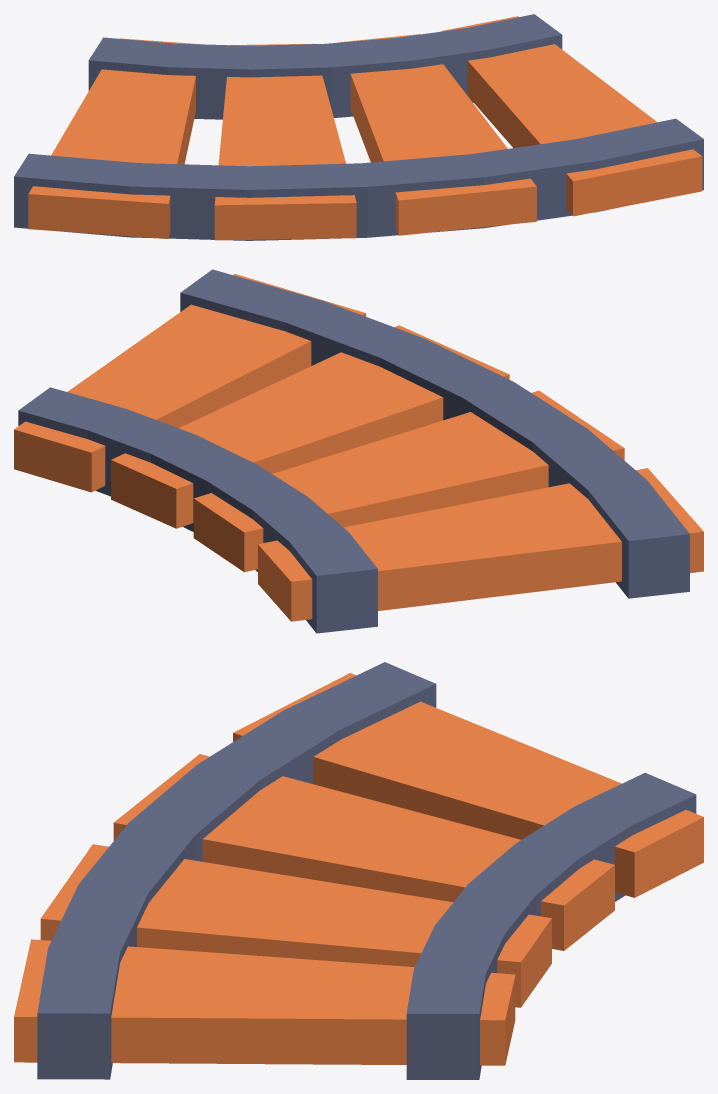
File: Rail_C.fbx
The picture shows the model from 3 angles, top to bottom: view 1: azimuth 30°, elevation 25°; view 2: azimuth 150°, elevation 25°; view 3: azimuth 270°, elevation 25°; orthographic projection. The views are drawn at different scales.
Parts seen in each view (by area): view 1: Rail_C; view 2: Rail_C; view 3: Rail_C.
Part boxes in pixels (left/top/right/bottom): Rail_C: left=14, top=14, right=703, bottom=240; Rail_C: left=14, top=269, right=703, bottom=633; Rail_C: left=14, top=662, right=703, bottom=1079.
Bounding box in the file's own units: 242 × 21.11 × 200.
